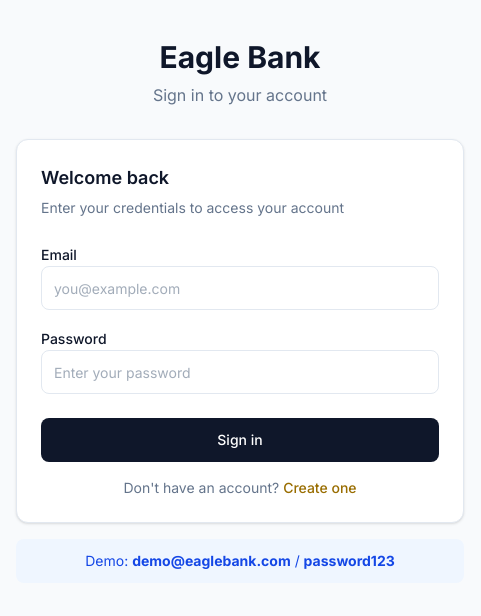
Test: LoginPage › shows error message for invalid credentials
The image size is (481, 616).
Type "wrong@email.com" into the field labelled "Email". click: (240, 288)
box: [41,266,439,310]
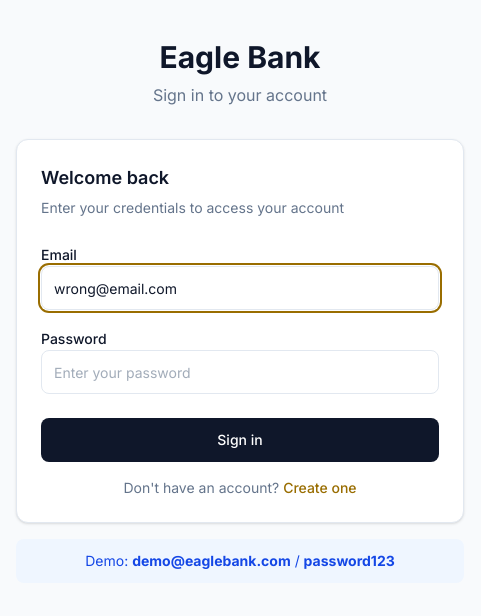
Type "wrongpassword" into the password field labelled "Password". click: (240, 372)
box: [41,350,439,394]
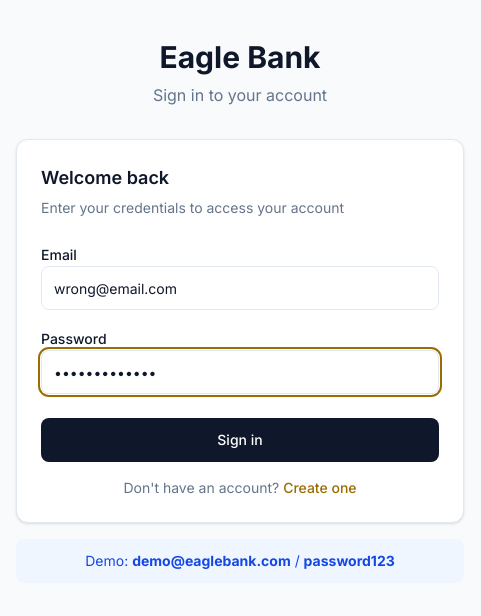
Click the button "Sign in". click: (240, 440)
box: [41,418,439,462]
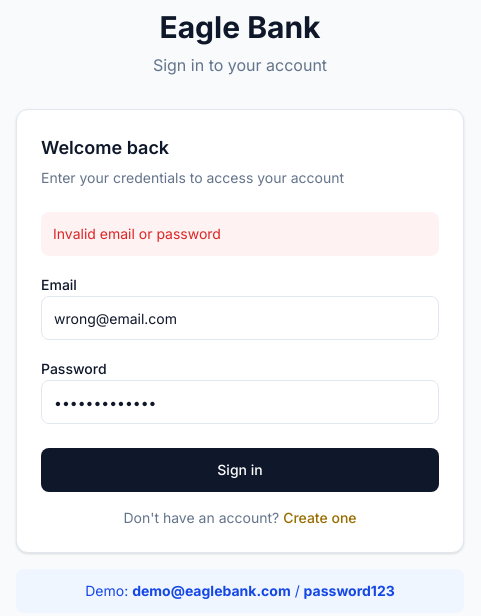
Check: the text "Invalid email or password" is shown, box [41,212,439,256]
